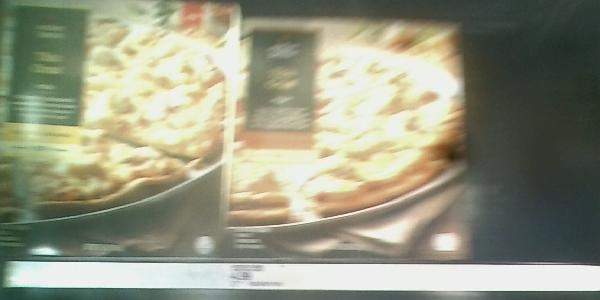pizza1: (1, 1, 236, 258), (236, 17, 472, 260)
